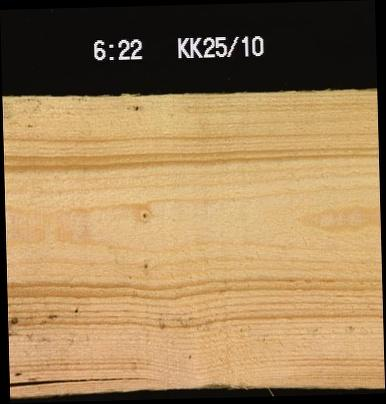small_knot: (137, 204, 152, 224), (129, 99, 142, 115), (138, 258, 151, 271)
split: (9, 370, 160, 388)
wave: (197, 376, 257, 389)
